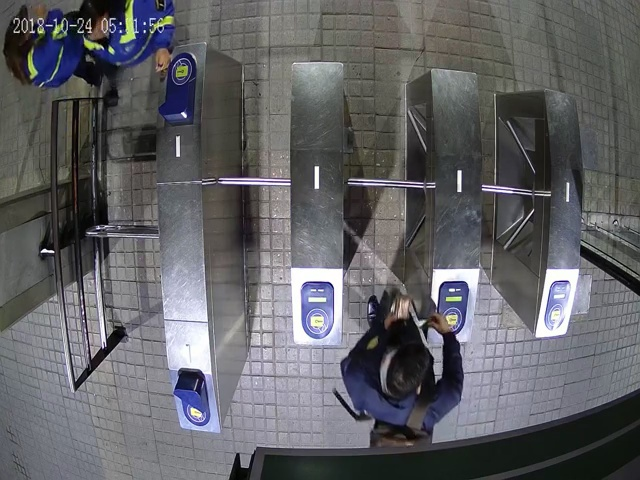Chaleco_azul: (77, 1, 176, 75), (2, 1, 79, 88)
